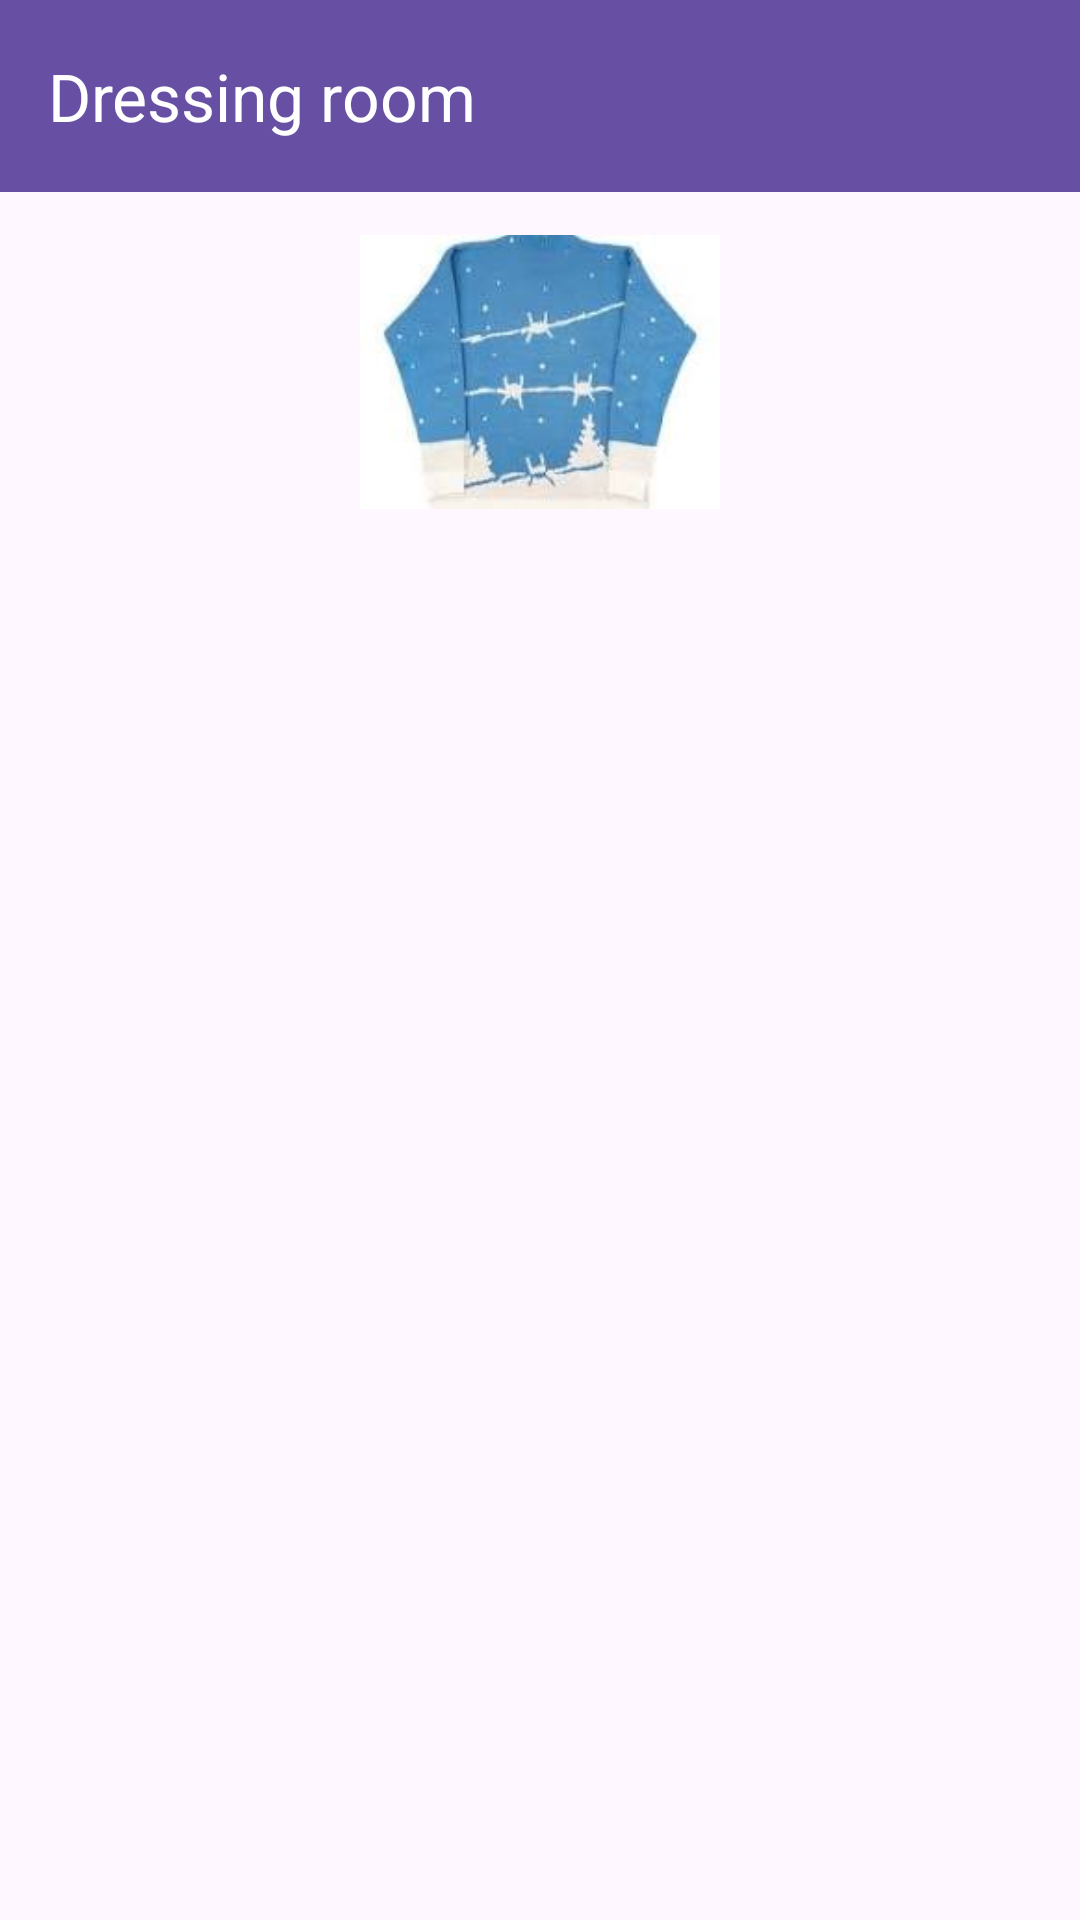

Icon bounding boxes for this 1080px x 1920px phone screenshot, format (x1, y1, x2, y2):
cloth: (383, 235, 698, 509)
